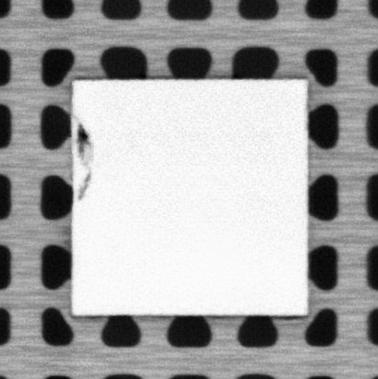DIE_INK: (73, 121, 93, 204)
